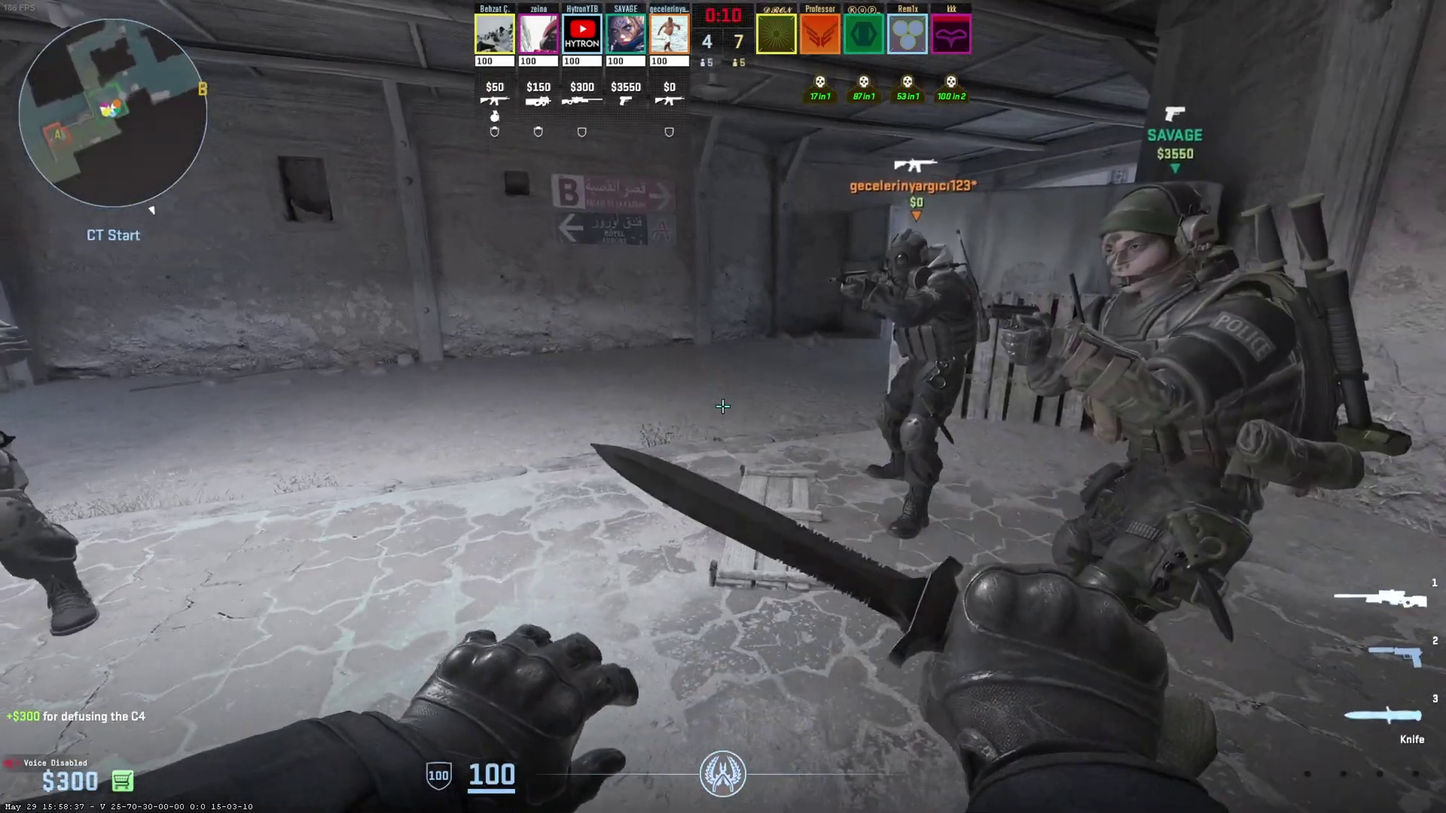CT: (1043, 180, 1335, 617), (857, 229, 970, 532)
